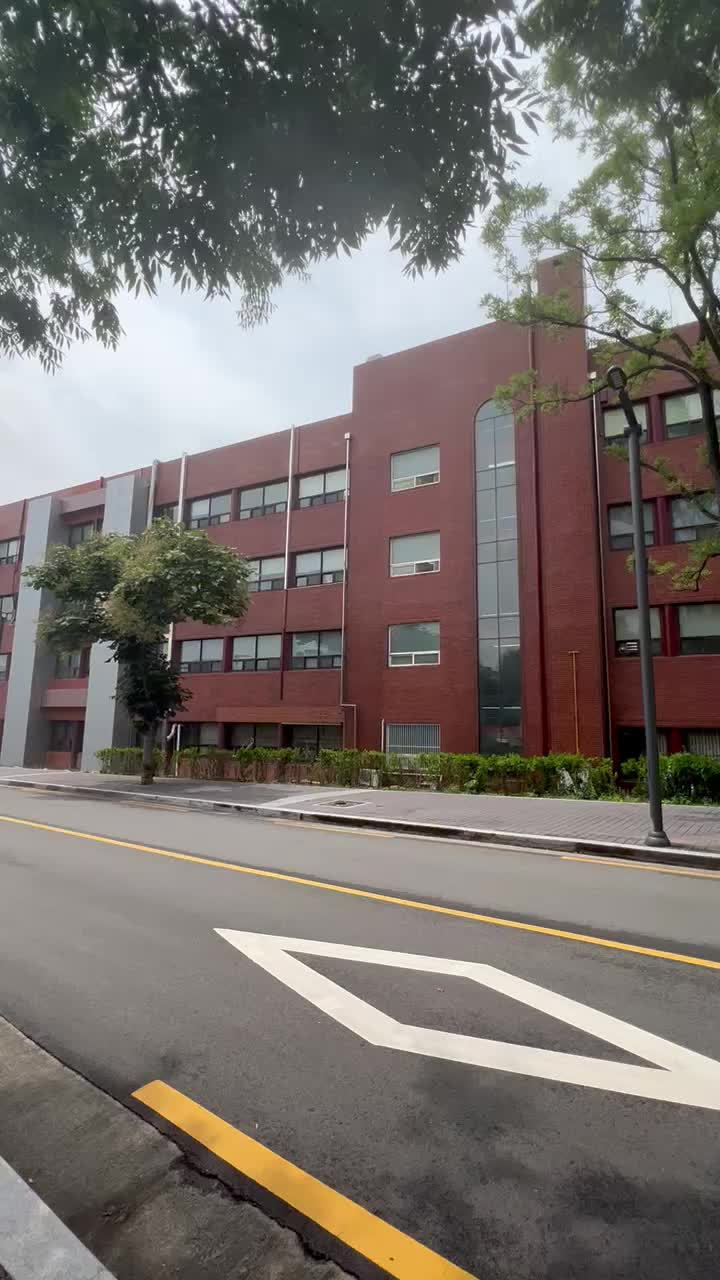low: (262, 344, 592, 766)
